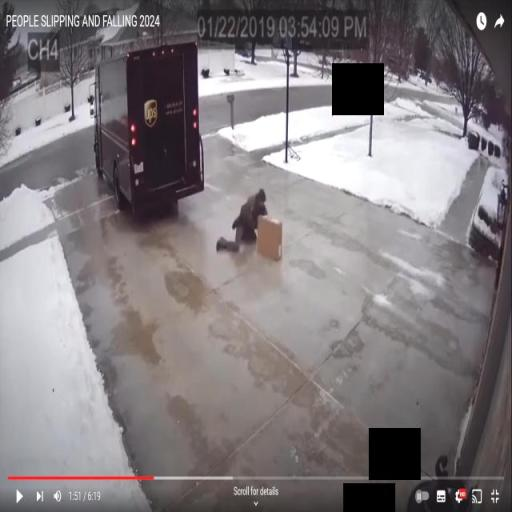Fall: (214, 185, 270, 256)
